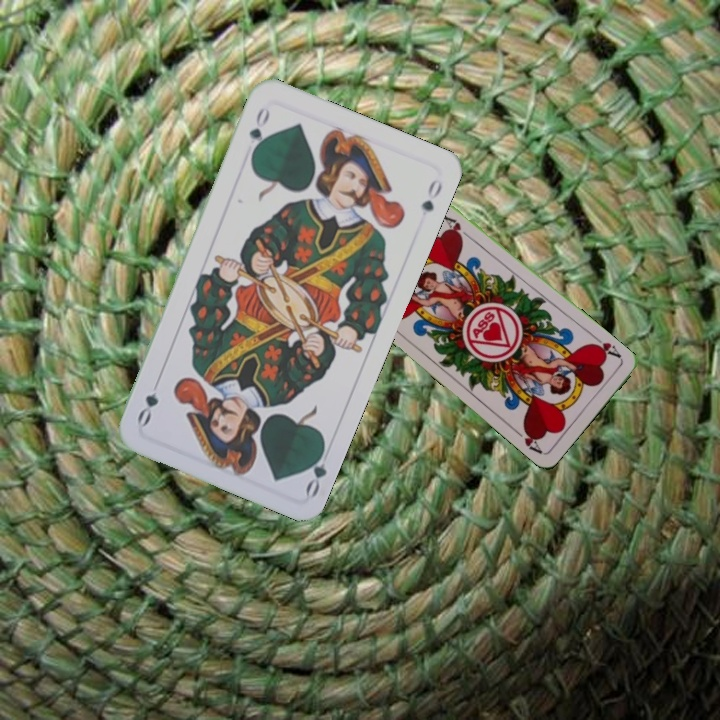GO: (300, 440, 330, 499), (245, 103, 273, 159)
HA: (586, 332, 624, 361)
